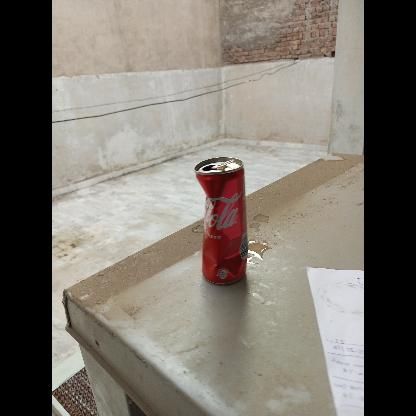Dent_Can: (199, 176, 246, 277), (240, 232, 248, 260)
Lid_Open: (201, 156, 235, 173)
Tin_Can: (190, 155, 250, 287)
